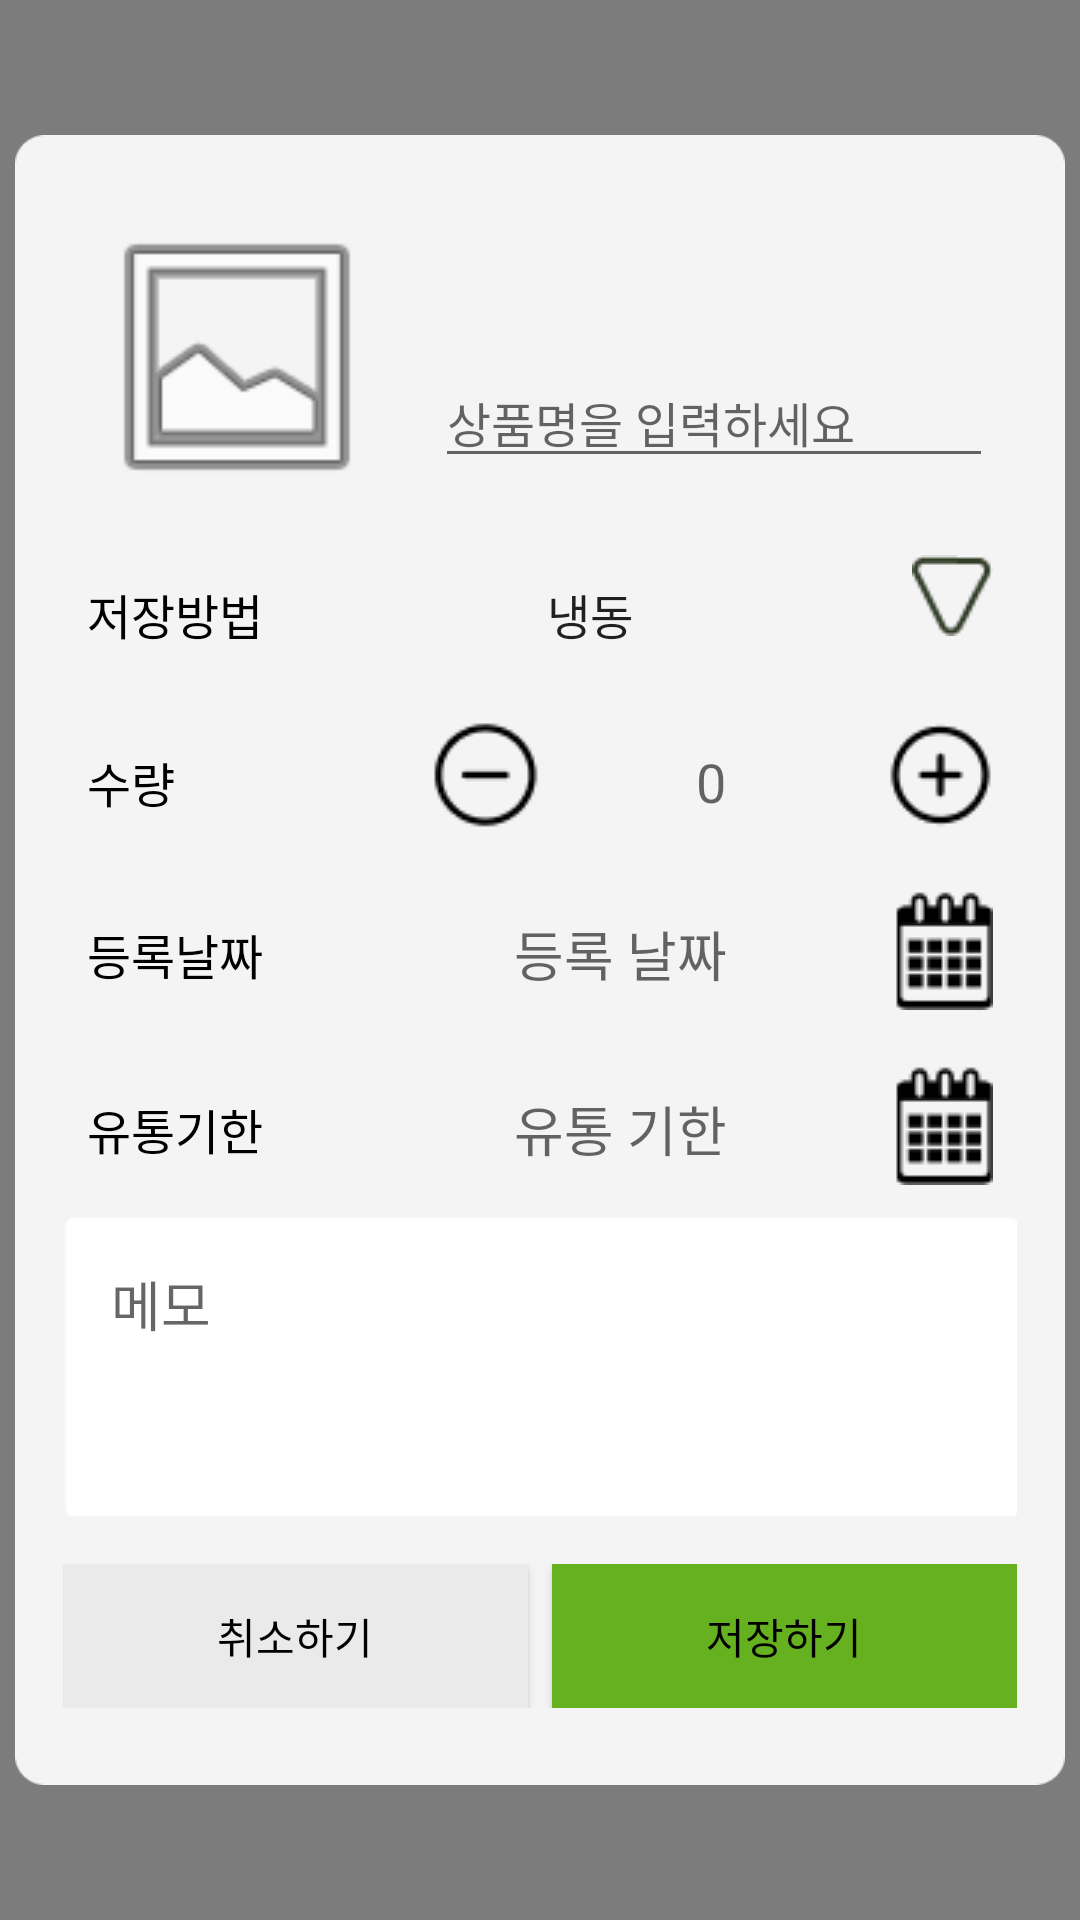

Where icons sit on this 1080px x 1920px app screen, as (x1, y1, x2, y2):
cal: (896, 892, 993, 1010), (896, 1067, 993, 1185)
minus: (434, 723, 538, 827)
상품 이미지 선택: (124, 244, 350, 470)
